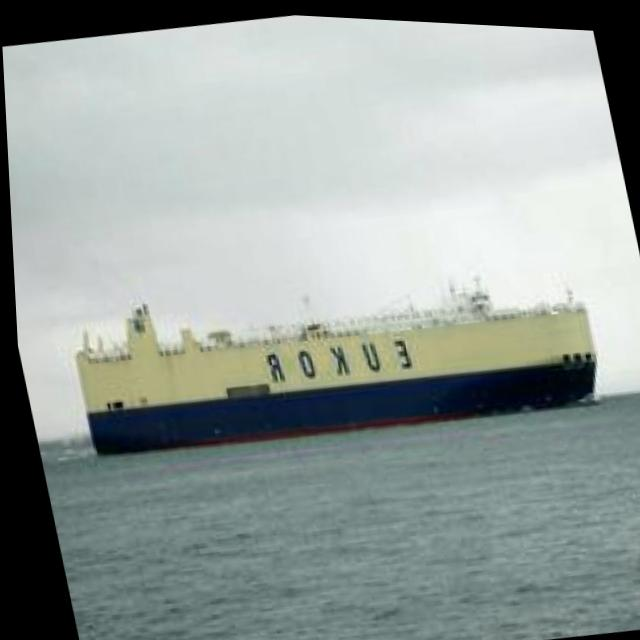ship2: (69, 263, 594, 457)
